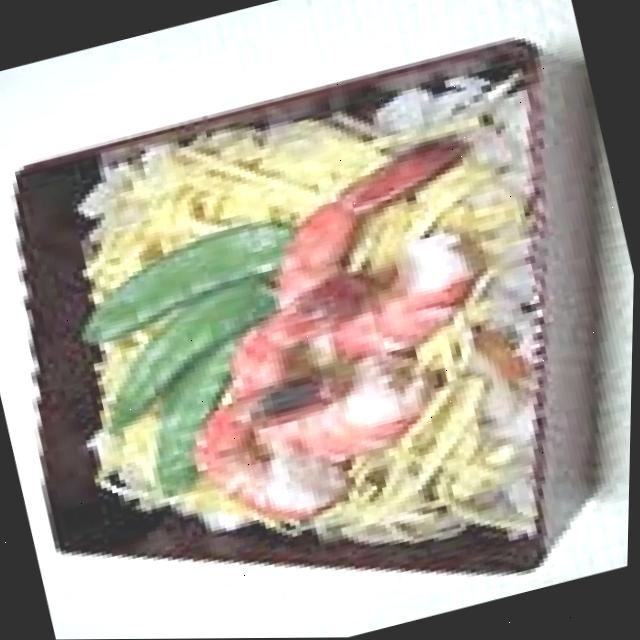寿司卷物: (0, 13, 640, 640)
